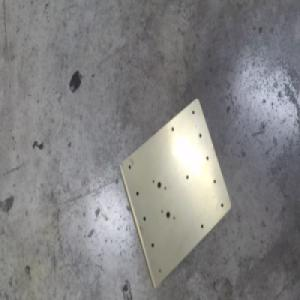MetalSheet: (117, 97, 232, 290)
